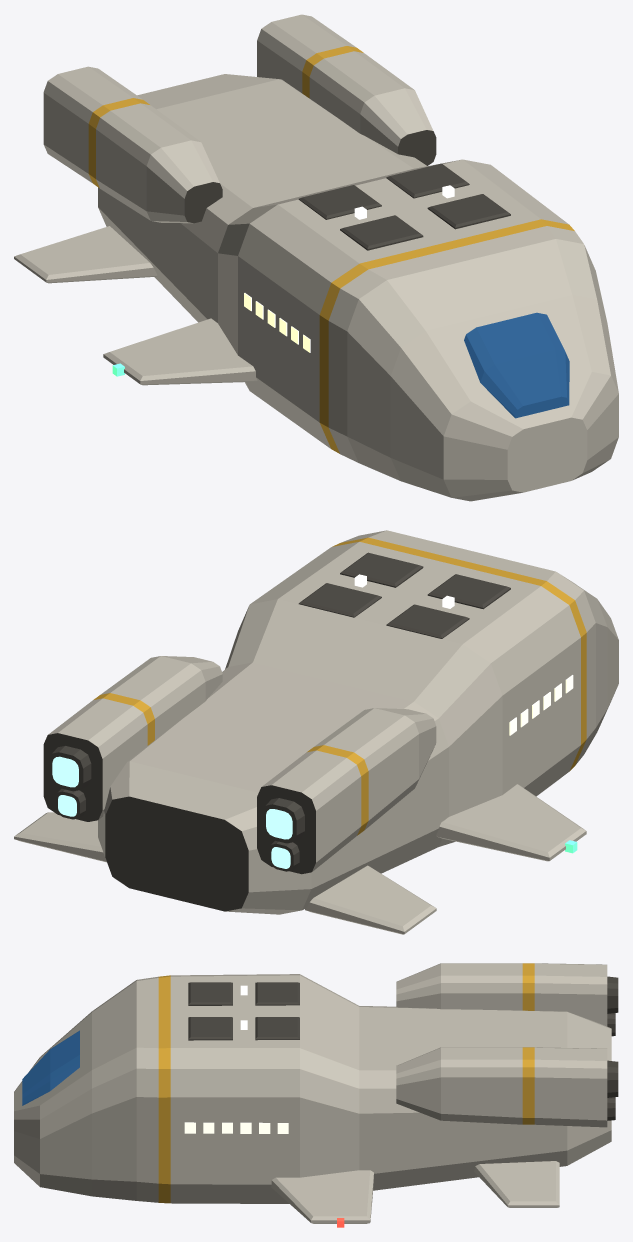
Rendered from type-7.glb.
3 views of the same model, one above another, from view 1: azimuth 30°, elevation 25°; view 2: azimuth 150°, elevation 25°; view 3: azimuth 270°, elevation 25° (orthographic). The views are drawn at different scales.
Parts seen in each view (by area): view 1: type-7; view 2: type-7; view 3: type-7.
Part boxes in pixels (x1,y1,x2,y2): type-7: (14,14,618,501); type-7: (14,530,618,934); type-7: (14,963,618,1227).
Size of the model in its own units: 57.76 by 26.24 by 81.48.
